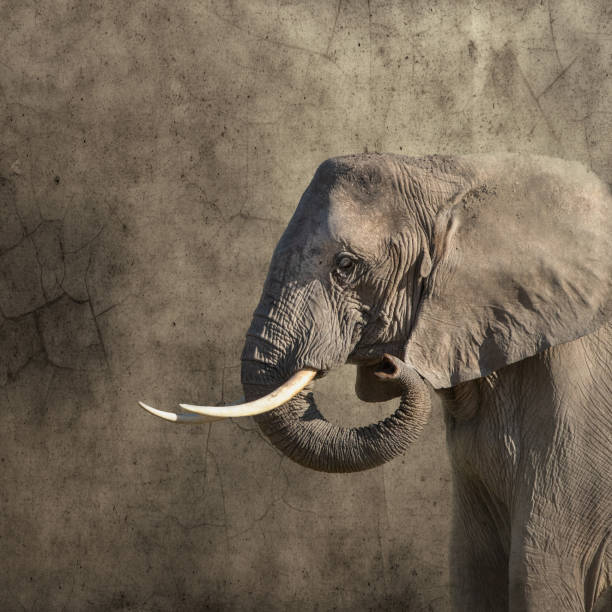africanelephant: (157, 129, 445, 473)
